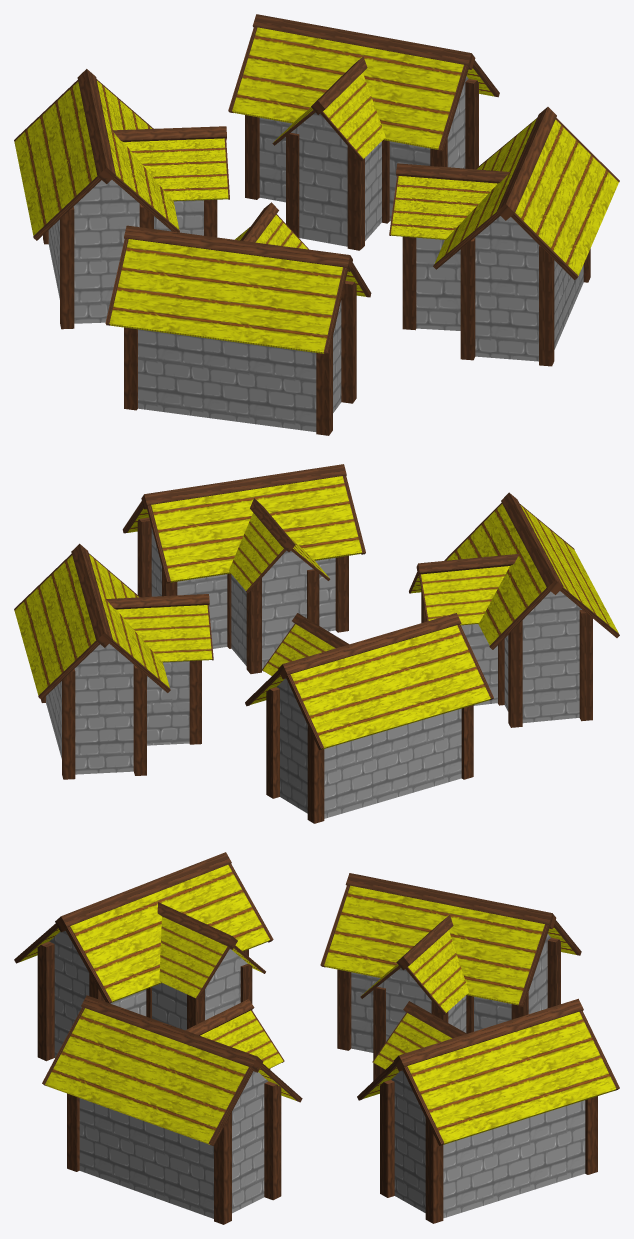
File: CityAge1.fbx
3 renders of one model, top to bottom at view 1: azimuth 30°, elevation 25°; view 2: azimuth 150°, elevation 25°; view 3: azimuth 270°, elevation 25°, orthographic. The views are drawn at different scales.
Parts seen in each view (by area): view 1: CityAge1; view 2: CityAge1; view 3: CityAge1.
Boxes of the visible parts, x1,y1,x2,y2 form: CityAge1: (14, 14, 619, 435); CityAge1: (14, 464, 619, 823); CityAge1: (14, 852, 619, 1224).
Size of the model in its own units: 642 by 189 by 662.
Materials: 3 (3 with a texture image).
